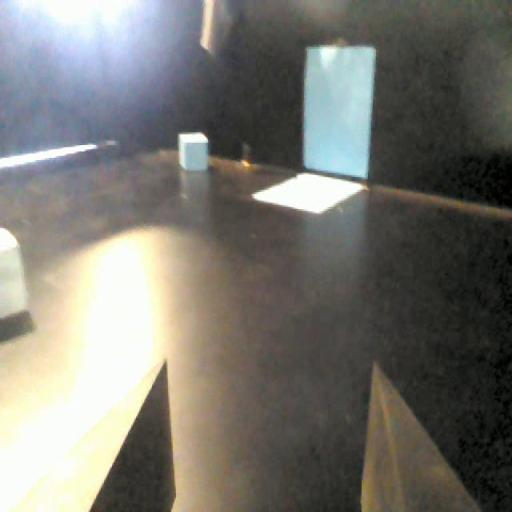cube: (0, 221, 30, 321), (178, 132, 209, 177)
